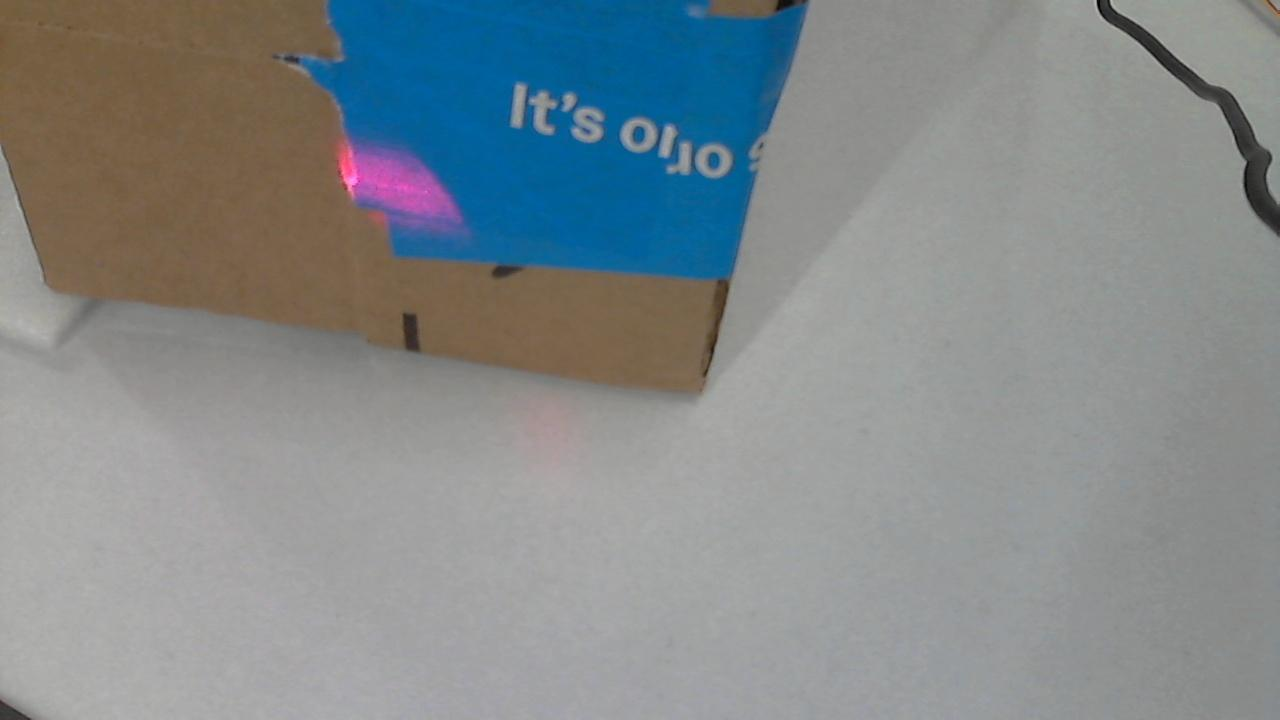Object cardboard shipping box- Material plastic - Color blue -Pdfname OHMlPZx8zU: (288, 87, 487, 248)
